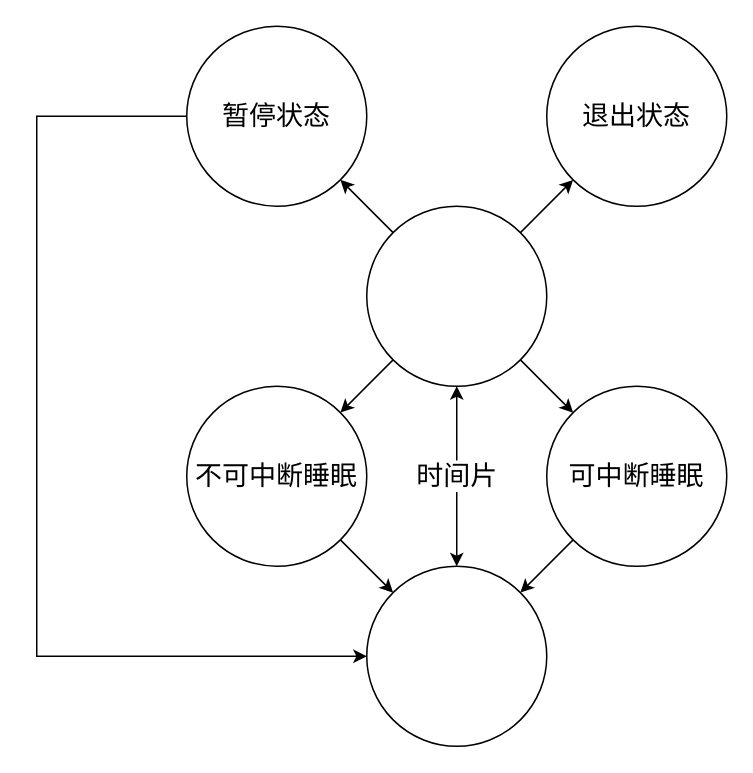
The diagram is 753 pixels wide and 773 high, and some of its shapes have lost their labels. The centre of each missing label's shape, as x and y in pixels:
"可执行状态" belongs at pixel 456 655.
"运行中" belongs at pixel 456 295.
